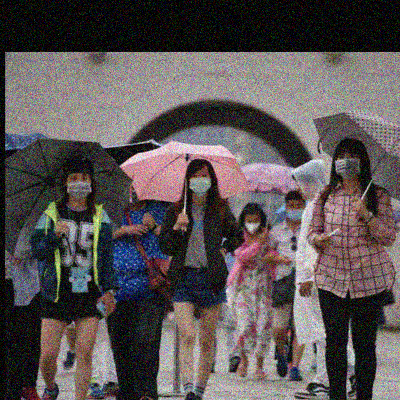with_mask: (65, 172, 92, 199), (335, 151, 361, 179), (188, 168, 213, 197), (287, 200, 305, 220), (244, 216, 261, 234)
